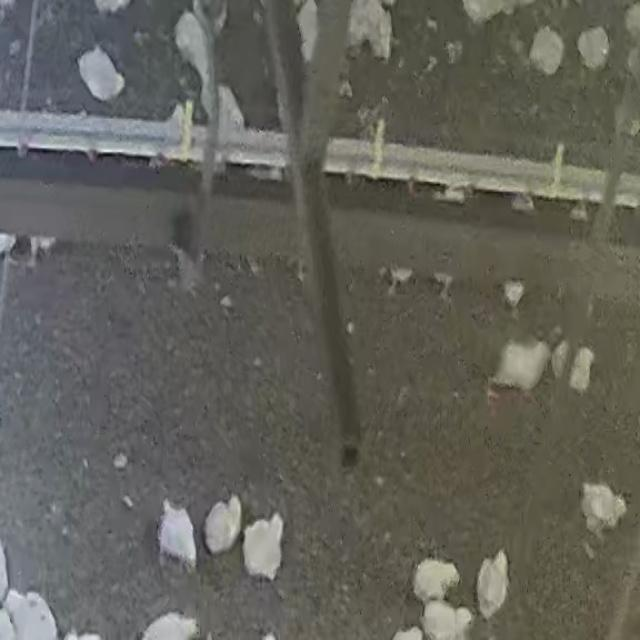chicken: (243, 509, 289, 586), (155, 495, 197, 575), (491, 338, 549, 394), (76, 46, 125, 101), (580, 482, 627, 536), (203, 495, 243, 556), (475, 551, 510, 620), (412, 558, 461, 602), (422, 600, 474, 638), (527, 25, 565, 75), (575, 24, 611, 70), (568, 344, 596, 394)
